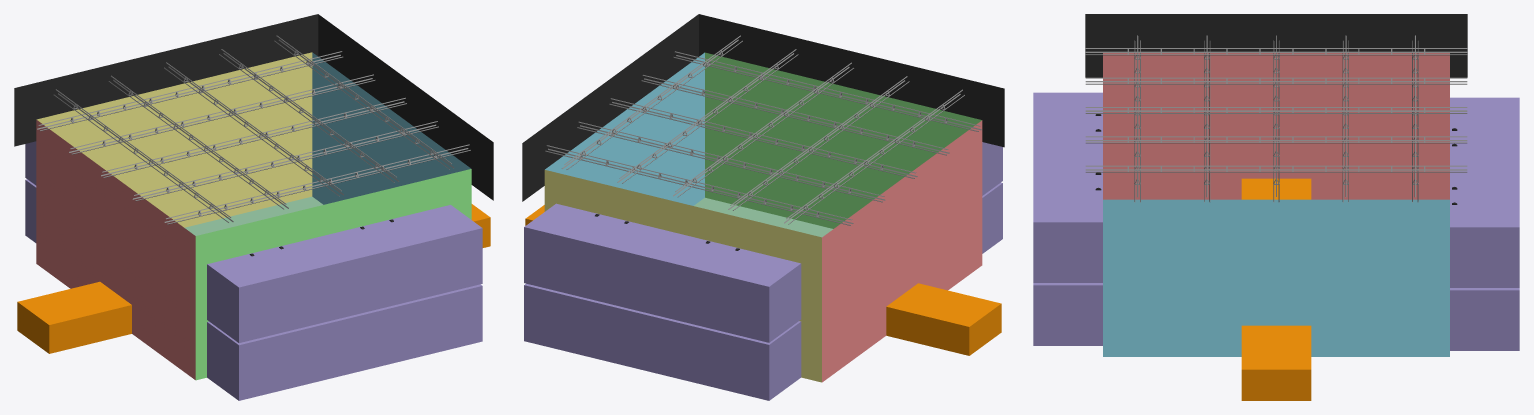
The model's file is prop_show_room.FBX.
3 views of the same model, side by side, from view 1: azimuth 30°, elevation 25°; view 2: azimuth 150°, elevation 25°; view 3: azimuth 270°, elevation 25° (orthographic). The views are drawn at different scales.
Parts seen in each view (by area): view 1: Plane050, Box016, Box015 (×2), prop_videowalltest, Box002, prop_videowalltest001, Plane213, Box011, Box018, Box021, Box020, Box019 (+13 smaller); view 2: Plane213, Box014, prop_videowalltest, Box002, Box013, prop_videowalltest001, Plane050, Box015 (×2), Box021, Box020, Box011, Box019 (+11 smaller); view 3: prop_videowalltest001, prop_videowalltest, Box002, Box014, Box016, Box015 (×2), Box017, Box013, Box026, Box023, Box025, Box022 (+6 smaller).
Part boxes in pixels (x1,y1,x2,y2): Plane050: (36, 52, 312, 227); Box016: (207, 205, 482, 342); Box015 (×2): (17, 281, 482, 400); prop_videowalltest: (36, 120, 195, 379); Box002: (14, 14, 493, 200); prop_videowalltest001: (312, 52, 471, 204); Plane213: (195, 169, 471, 380); Box011: (164, 144, 470, 224); Box018: (132, 121, 438, 201); Box021: (37, 51, 343, 131); Box020: (69, 74, 375, 154); Box019: (101, 97, 406, 177); Plane213: (705, 52, 981, 224); Box014: (524, 203, 801, 342); prop_videowalltest: (822, 120, 982, 382); Box002: (522, 14, 1004, 201); Box013: (524, 283, 801, 400); prop_videowalltest001: (545, 52, 704, 205); Plane050: (544, 170, 821, 382); Box015 (×2): (886, 182, 1002, 355); Box021: (545, 145, 853, 225); Box020: (577, 121, 885, 202); Box011: (673, 51, 981, 131); Box019: (609, 98, 917, 178); prop_videowalltest001: (1103, 199, 1449, 356); prop_videowalltest: (1103, 53, 1449, 199); Box002: (1085, 14, 1467, 77); Box014: (1450, 97, 1519, 287); Box016: (1033, 92, 1102, 282); Box015 (×2): (1033, 178, 1311, 345); Box017: (1241, 325, 1311, 400); Box013: (1450, 288, 1519, 350); Box026: (1085, 165, 1467, 172); Box023: (1085, 77, 1467, 84); Box025: (1085, 136, 1467, 143); Box022: (1085, 48, 1467, 55).
Bounding box in the file's own units: 160 × 60 × 140.
